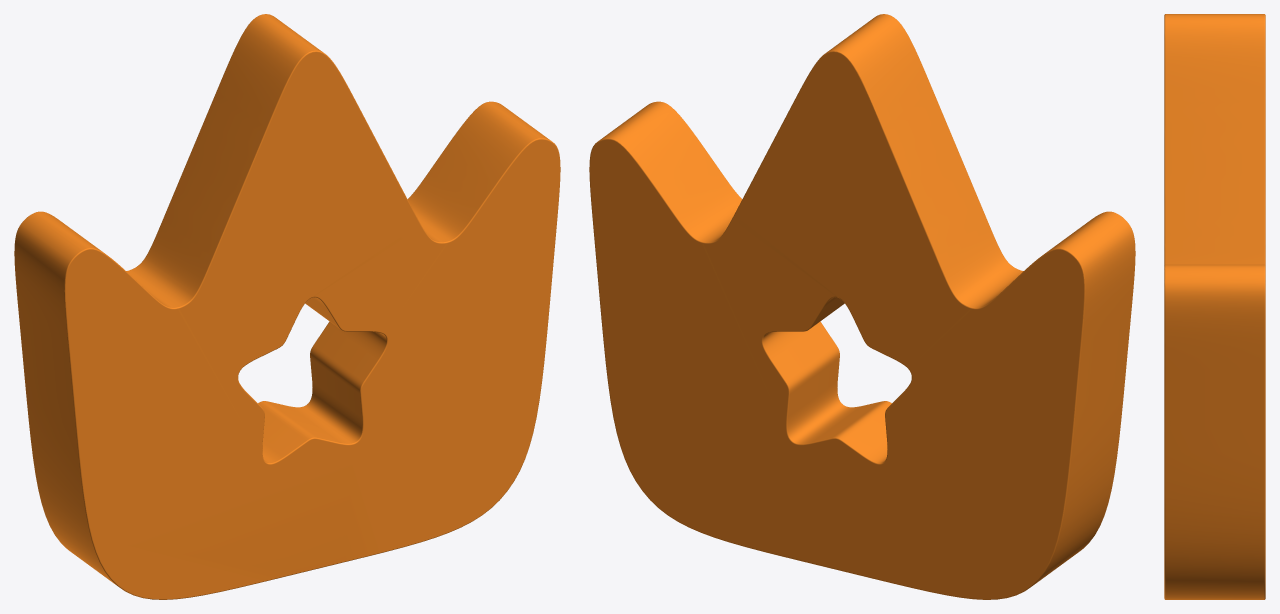
Rendered from premium.glb.
3 renders of one model, left to right at view 1: azimuth 30°, elevation 25°; view 2: azimuth 150°, elevation 25°; view 3: azimuth 270°, elevation 25°, orthographic.
Visible parts, largest first — view 1: Curve.001; view 2: Curve.001; view 3: Curve.001.
Part boxes in pixels (<box>): Curve.001: <box>14,14,560,599</box>; Curve.001: <box>589,14,1135,599</box>; Curve.001: <box>1164,14,1265,599</box>.
Size of the model in its own units: 1.58 by 1.58 by 0.2812.
